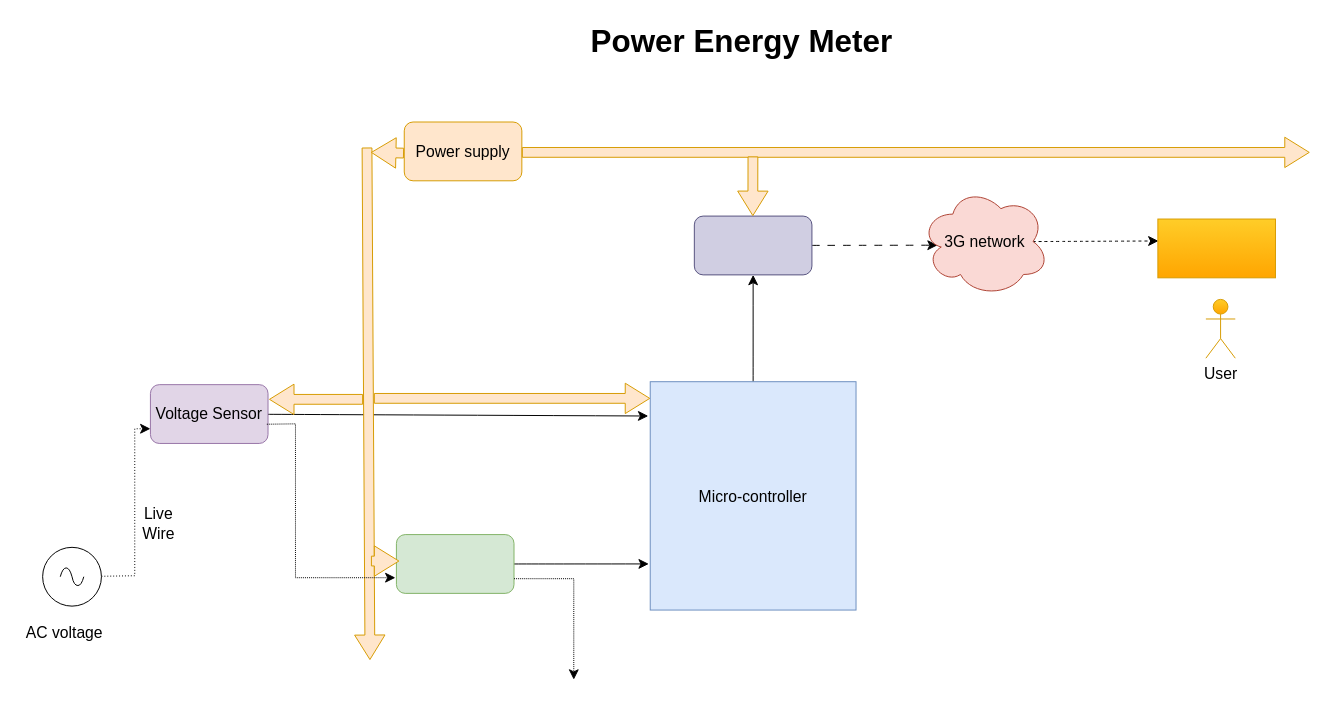
The diagram is 1326 pixels wide and 707 high, and some of its shapes have lost their labels. The shapes that lost their labels are listed below. From the top down, each one's box as (x1, y1, x2, y2) in pixels, then its label:
(693, 215, 812, 275): GSM Module
(1157, 218, 1275, 278): Application
(395, 534, 514, 593): Current sensor
